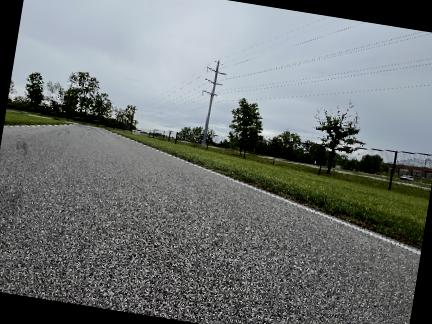Grass: (117, 132, 428, 247), (4, 111, 65, 125)
Lane: (0, 125, 419, 323)
